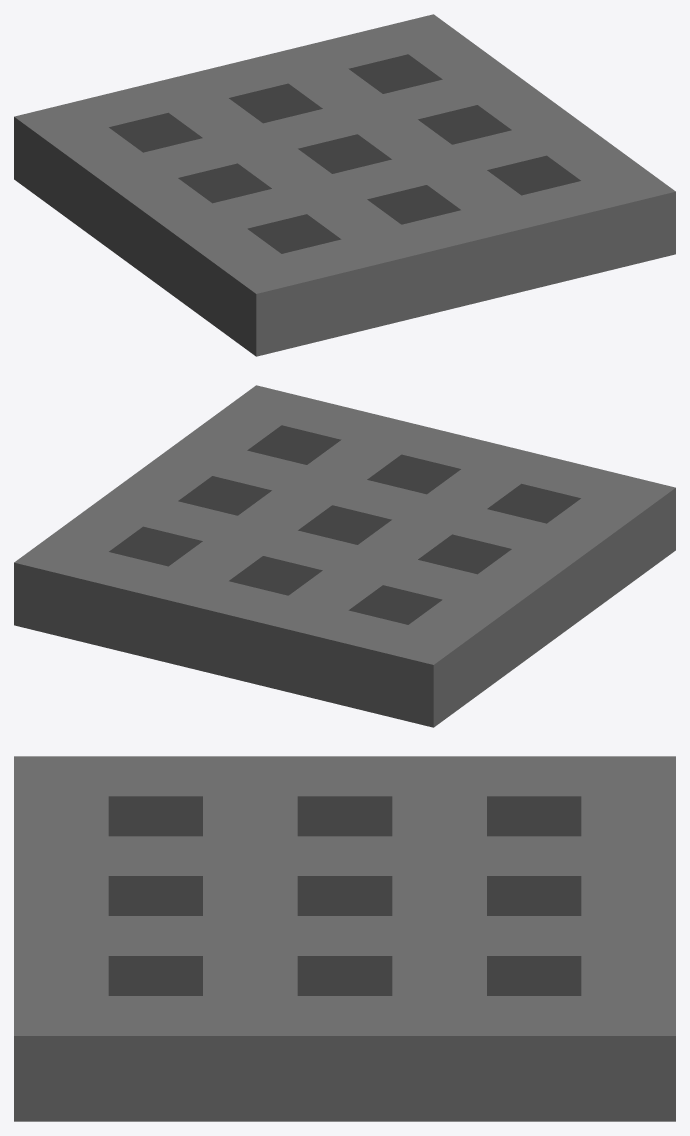
The model's file is environ-29-grate2.obj.
3 renders of one model, top to bottom at view 1: azimuth 30°, elevation 25°; view 2: azimuth 150°, elevation 25°; view 3: azimuth 270°, elevation 25°, orthographic. The views are drawn at different scales.
Visible parts, largest first — view 1: grate2; view 2: grate2; view 3: grate2.
Boxes of the visible parts, left/top/right/bottom form: grate2: left=14, top=14, right=675, bottom=356; grate2: left=14, top=385, right=675, bottom=727; grate2: left=14, top=756, right=675, bottom=1121.
Bounding box in the file's own units: 0.7 × 0.1 × 0.7.
Materials: 1 (1 with a texture image).
